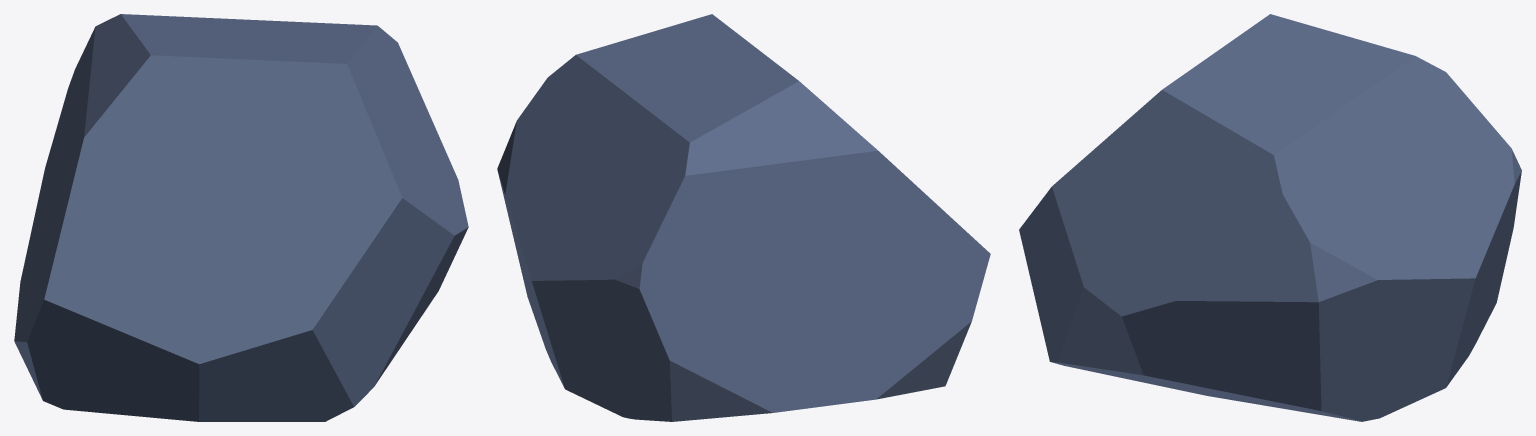
The model's file is Rock07.fbx.
3 views of the same model, side by side, from view 1: azimuth 30°, elevation 25°; view 2: azimuth 150°, elevation 25°; view 3: azimuth 270°, elevation 25° (orthographic). The views are drawn at different scales.
Visible parts, largest first — view 1: Rock_07; view 2: Rock_07; view 3: Rock_07.
Part boxes in pixels (x1,y1,x2,y2): Rock_07: [14, 14, 468, 421]; Rock_07: [497, 14, 990, 421]; Rock_07: [1019, 14, 1521, 421].
Bounding box in the file's own units: 143 × 107 × 139.
